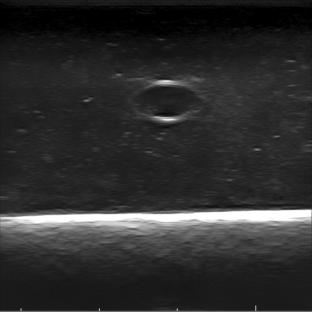vessel: (132, 78, 210, 123)
